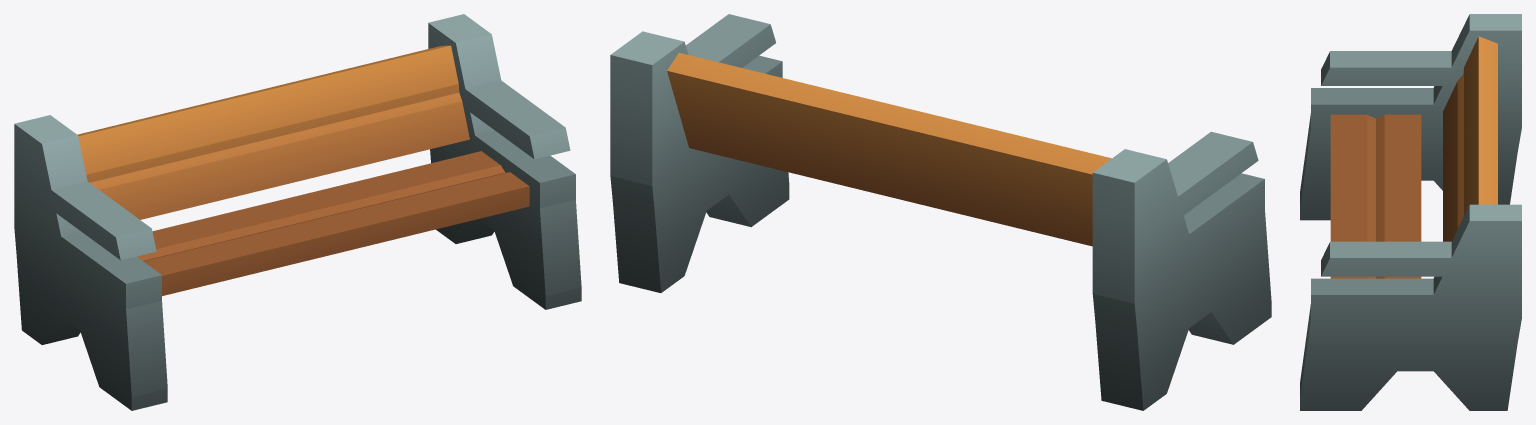
The model's file is banc.fbx.
3 renders of one model, left to right at view 1: azimuth 30°, elevation 25°; view 2: azimuth 150°, elevation 25°; view 3: azimuth 270°, elevation 25°, orthographic. The views are drawn at different scales.
Visible parts, largest first — view 1: Cube.002; view 2: Cube.002; view 3: Cube.002.
Boxes of the visible parts, left/top/right/bottom form: Cube.002: left=14, top=14, right=581, bottom=410; Cube.002: left=610, top=14, right=1271, bottom=410; Cube.002: left=1300, top=14, right=1521, bottom=410.
Bounding box in the file's own units: 878 × 375 × 397.
